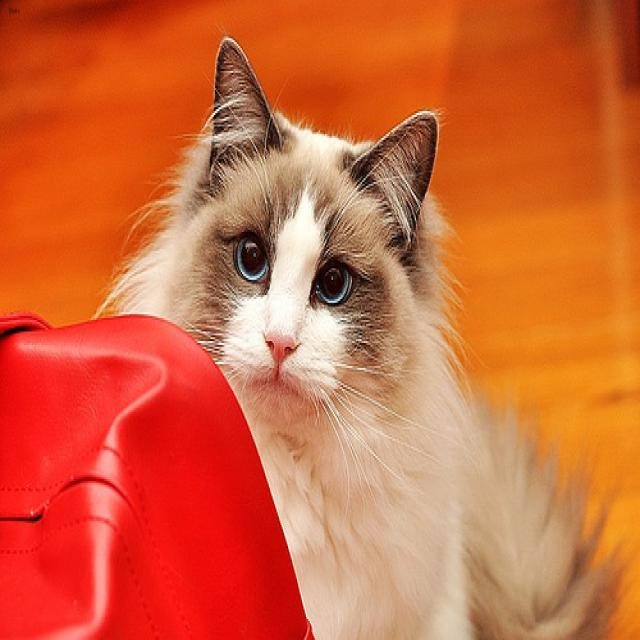Ragdoll: (194, 33, 437, 420)
